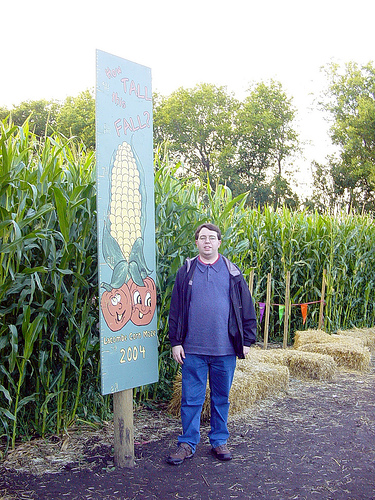corn: (107, 142, 145, 273)
